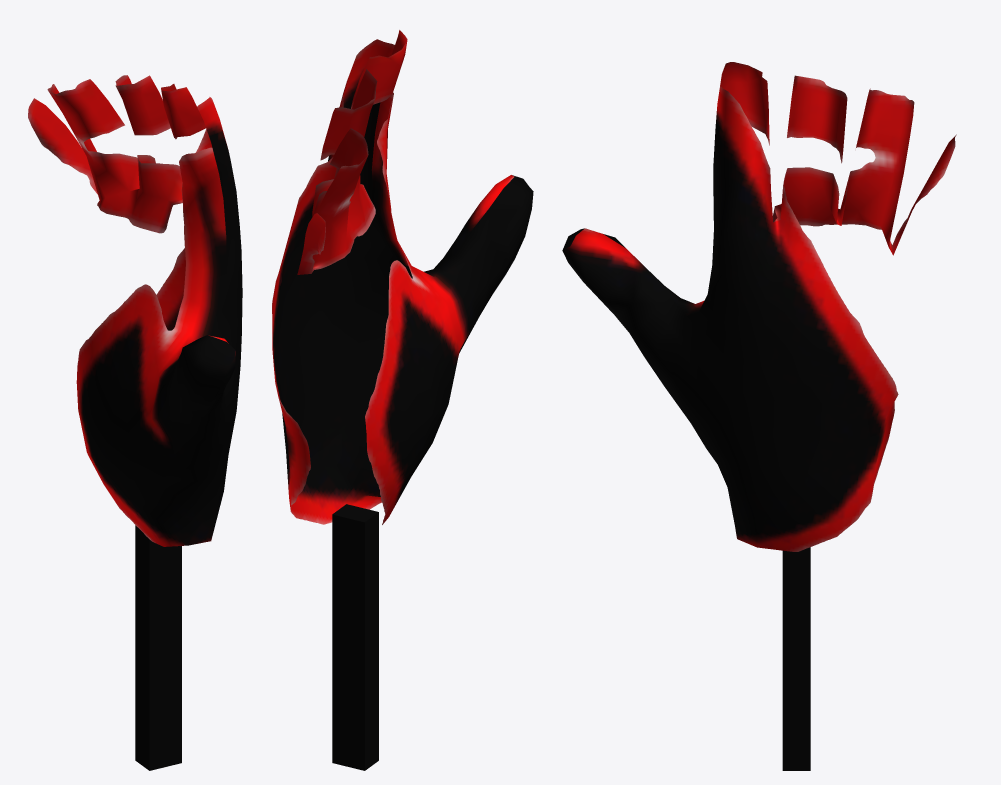
The model's file is Slap_2.obj.
3 renders of one model, left to right at view 1: azimuth 30°, elevation 25°; view 2: azimuth 150°, elevation 25°; view 3: azimuth 270°, elevation 25°, orthographic.
Parts seen in each view (by area): view 1: Handle1, Stick1; view 2: Handle1, Stick1; view 3: Handle1, Stick1.
Boxes of the visible parts, x1,y1,x2,y2 form: Handle1: (28,75,242,546); Stick1: (135,525,181,770); Handle1: (272,30,533,524); Stick1: (332,504,378,770); Handle1: (562,62,956,551); Stick1: (782,547,810,770).
Bounding box in the file's own units: 0.915 × 4.7 × 2.46.
Materials: 2 (1 with a texture image).
